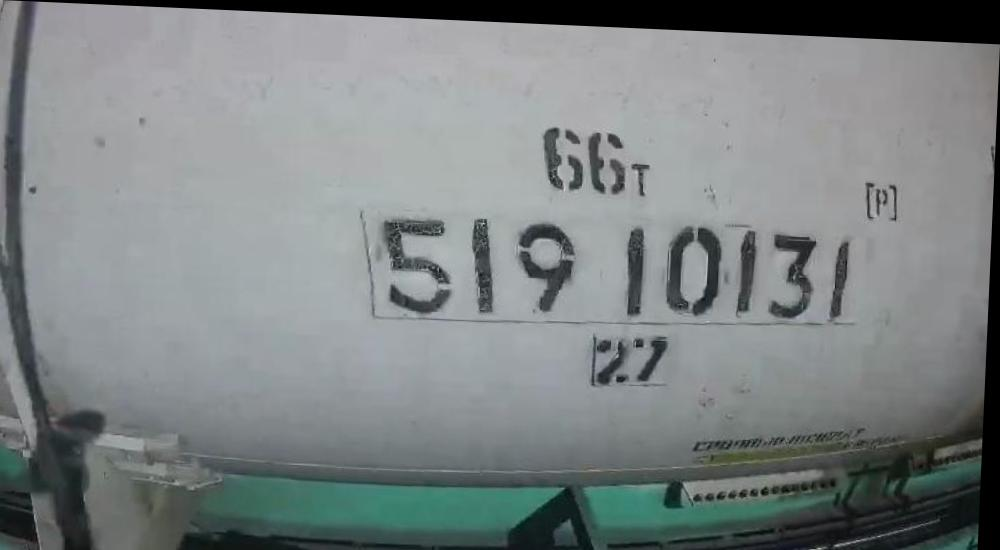Wagon-number: (372, 201, 860, 327)
